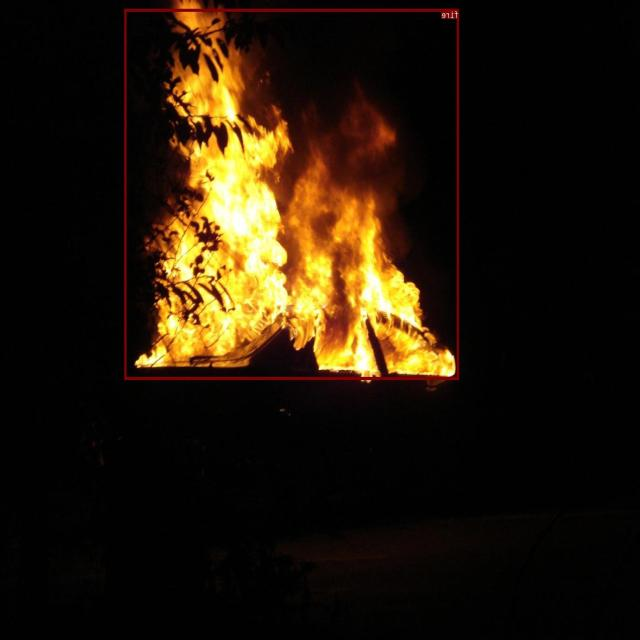fire: (125, 8, 459, 379)
